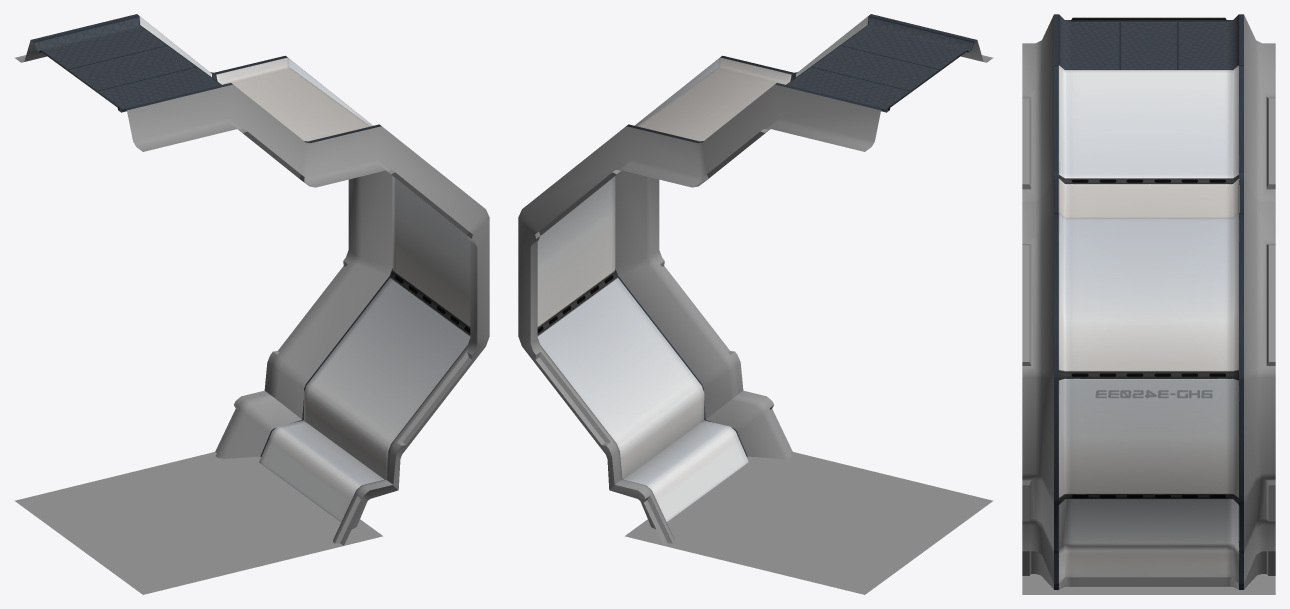
The model's file is Corr_A_1_point_5m.fbx.
The picture shows the model from 3 angles, left to right: view 1: azimuth 30°, elevation 25°; view 2: azimuth 150°, elevation 25°; view 3: azimuth 270°, elevation 25°; orthographic projection.
Parts seen in each view (by area): view 1: Corr_A_1_point_5m; view 2: Corr_A_1_point_5m; view 3: Corr_A_1_point_5m.
Part boxes in pixels (x1,y1,x2,y2): Corr_A_1_point_5m: [14, 14, 489, 594]; Corr_A_1_point_5m: [518, 14, 993, 594]; Corr_A_1_point_5m: [1022, 14, 1275, 594].
Size of the model in its own units: 244 by 304 by 150.
5 materials, 2 textured.
